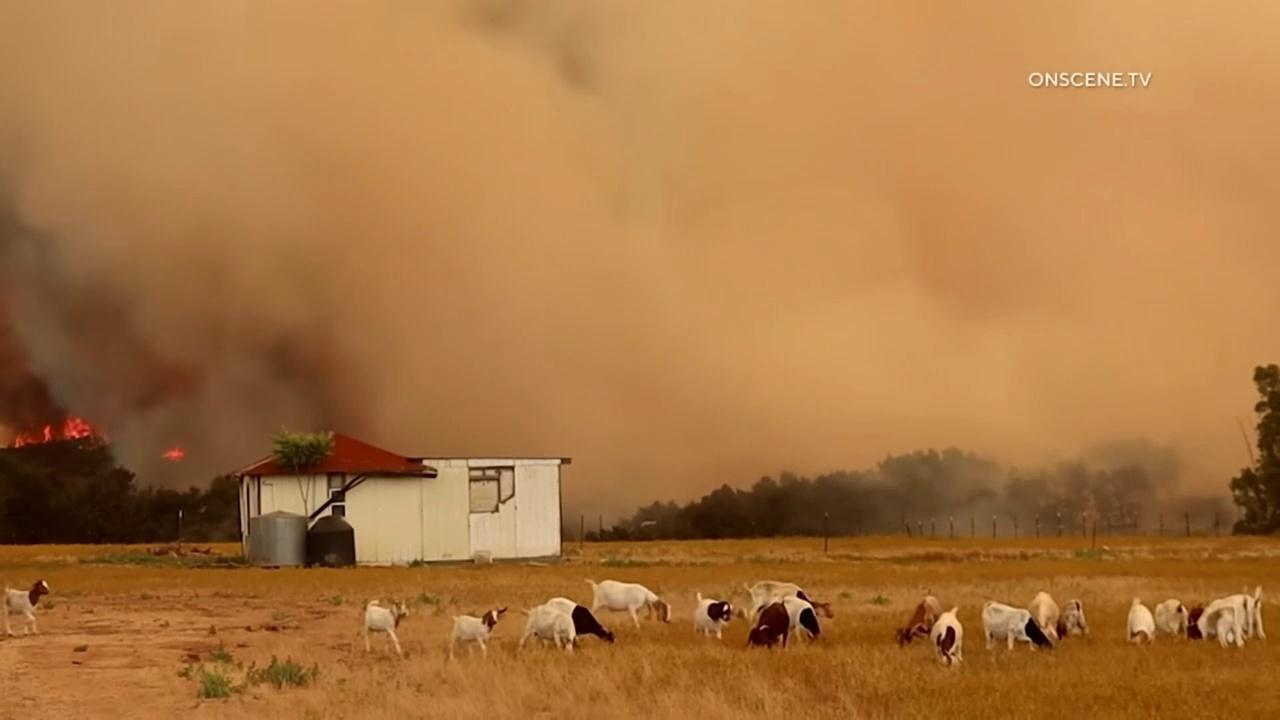fire: (63, 417, 92, 440), (159, 446, 185, 460), (15, 433, 33, 449), (42, 423, 53, 445)
smoke: (0, 0, 1280, 538)
